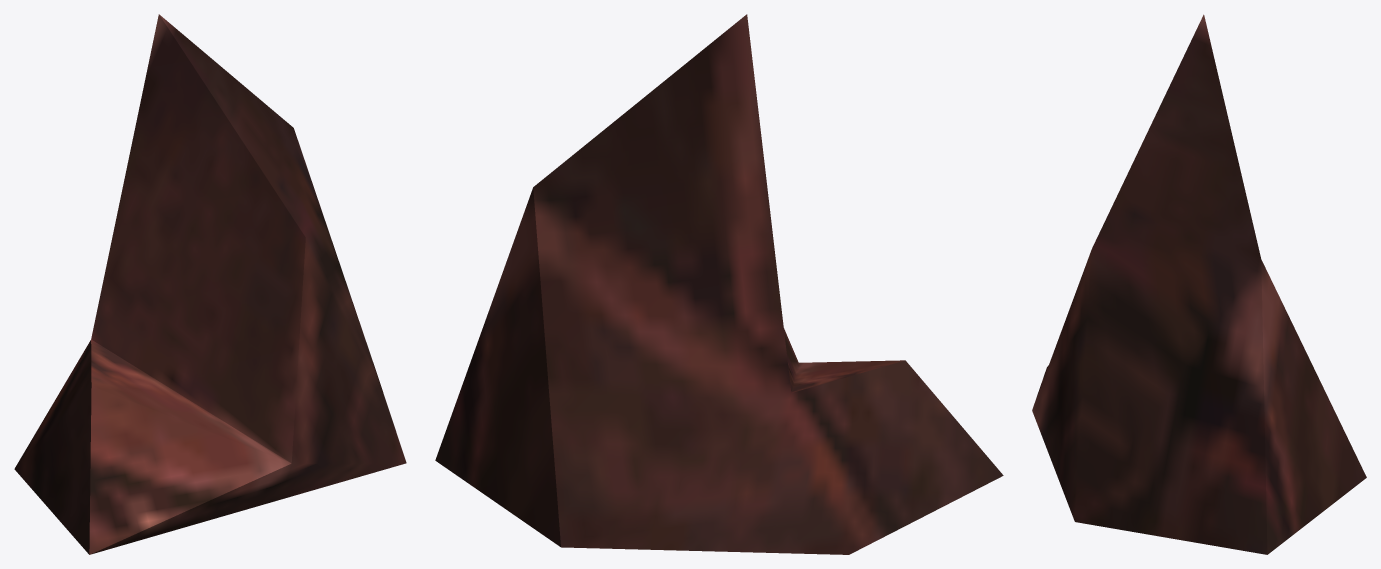
Rendered from stalacmite_small02.fbx.
3 views of the same model, side by side, from view 1: azimuth 30°, elevation 25°; view 2: azimuth 150°, elevation 25°; view 3: azimuth 270°, elevation 25° (orthographic). The views are drawn at different scales.
Visible parts, largest first — view 1: 09_-_Default; view 2: 09_-_Default; view 3: 09_-_Default.
Boxes of the visible parts, x1,y1,x2,y2 form: 09_-_Default: (14,14,406,554); 09_-_Default: (435,14,1003,554); 09_-_Default: (1032,14,1366,554).
Bounding box in the file's own units: 0.8973 × 0.9479 × 0.6766.
